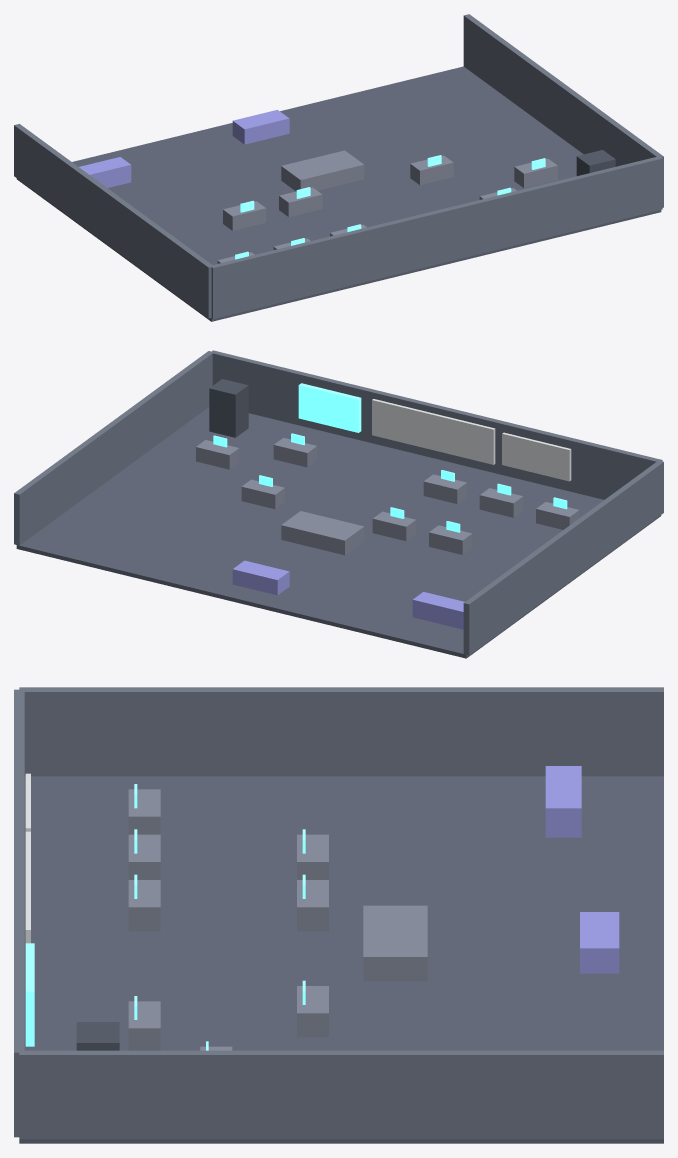
Rendered from office_kit.glb.
3 renders of one model, top to bottom at view 1: azimuth 30°, elevation 25°; view 2: azimuth 150°, elevation 25°; view 3: azimuth 270°, elevation 25°, orthographic. The views are drawn at different scales.
Parts seen in each view (by area): view 1: Office_Floor, Wall_North, Wall_West, Wall_East, Meeting_Table, Director_Desk, Coffee_Bar_Lounge, Desk_fe, Desk_devops, Desk_be, Desk_reviewer, Server_Rack_DevOps; view 2: Office_Floor, Wall_North, Wall_West, Wall_East, Kanban_Wall, Meeting_Table, Whiteboard_PM, Device_Wall_QA, Server_Rack_DevOps, Director_Desk, Coffee_Bar_Lounge, Desk_pm (+7 smaller); view 3: Office_Floor, Wall_East, Wall_West, Meeting_Table, Wall_North, Coffee_Bar_Lounge, Director_Desk, Desk_tl, Desk_be, Desk_reviewer, Desk_qa, Desk_em (+5 smaller).
Boxes of the visible parts, x1,y1,x2,y2 form: Office_Floor: (16, 66, 661, 321); Wall_North: (210, 157, 662, 318); Wall_West: (14, 124, 213, 318); Wall_East: (463, 14, 663, 207); Meeting_Table: (281, 150, 364, 191); Director_Desk: (232, 110, 289, 144); Coffee_Bar_Lounge: (79, 157, 131, 187); Desk_fe: (223, 201, 266, 230); Desk_devops: (514, 158, 557, 188); Desk_be: (279, 187, 322, 216); Desk_reviewer: (410, 155, 453, 185); Server_Rack_DevOps: (576, 150, 615, 175); Office_Floor: (16, 407, 661, 658); Wall_North: (211, 350, 662, 499); Wall_West: (463, 461, 663, 655); Wall_East: (14, 351, 213, 545); Kanban_Wall: (372, 399, 495, 464); Meeting_Table: (281, 511, 364, 555); Whiteboard_PM: (502, 432, 571, 481); Device_Wall_QA: (298, 383, 361, 432); Server_Rack_DevOps: (209, 379, 248, 437); Director_Desk: (232, 560, 289, 595); Coffee_Bar_Lounge: (412, 592, 464, 629); Desk_pm: (479, 488, 523, 517); Office_Floor: (19, 776, 663, 1143); Wall_East: (19, 1050, 663, 1139); Wall_West: (19, 687, 663, 776); Meeting_Table: (363, 905, 427, 981); Wall_North: (14, 689, 24, 1137); Coffee_Bar_Lounge: (545, 766, 581, 837); Director_Desk: (580, 912, 619, 973); Desk_tl: (128, 880, 160, 931); Desk_be: (297, 880, 328, 931); Desk_reviewer: (297, 986, 328, 1037); Desk_qa: (128, 1001, 160, 1050); Desk_em: (128, 789, 160, 834).
Size of the model in its own units: 24.3 by 2.8 by 18.15.
